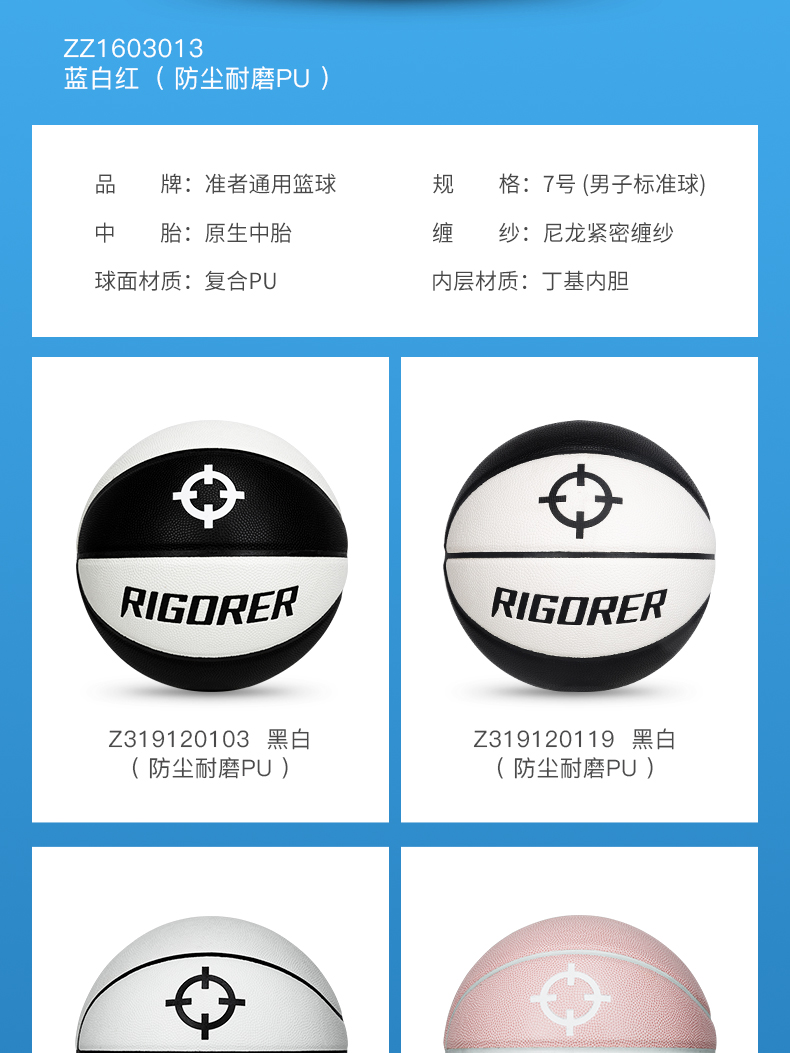ball: (75, 423, 349, 695), (445, 420, 716, 693), (443, 916, 716, 1053), (77, 919, 349, 1053)
